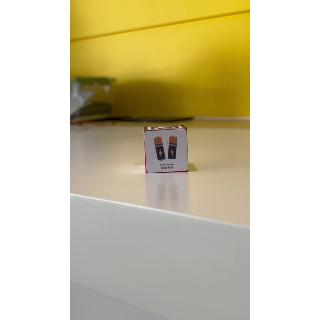Used_Battery: (146, 129, 190, 173)
